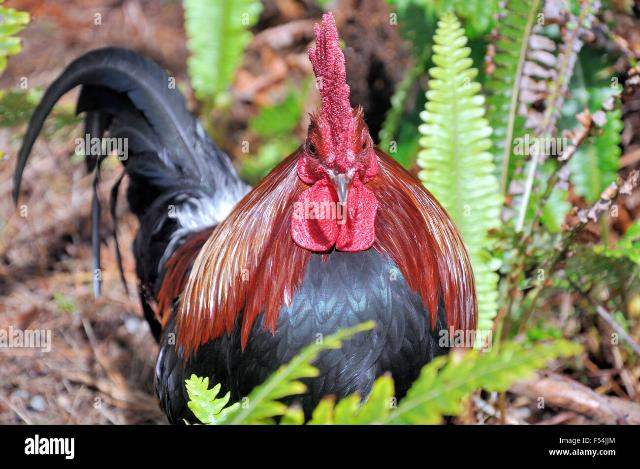Chicken: (10, 11, 480, 424)
